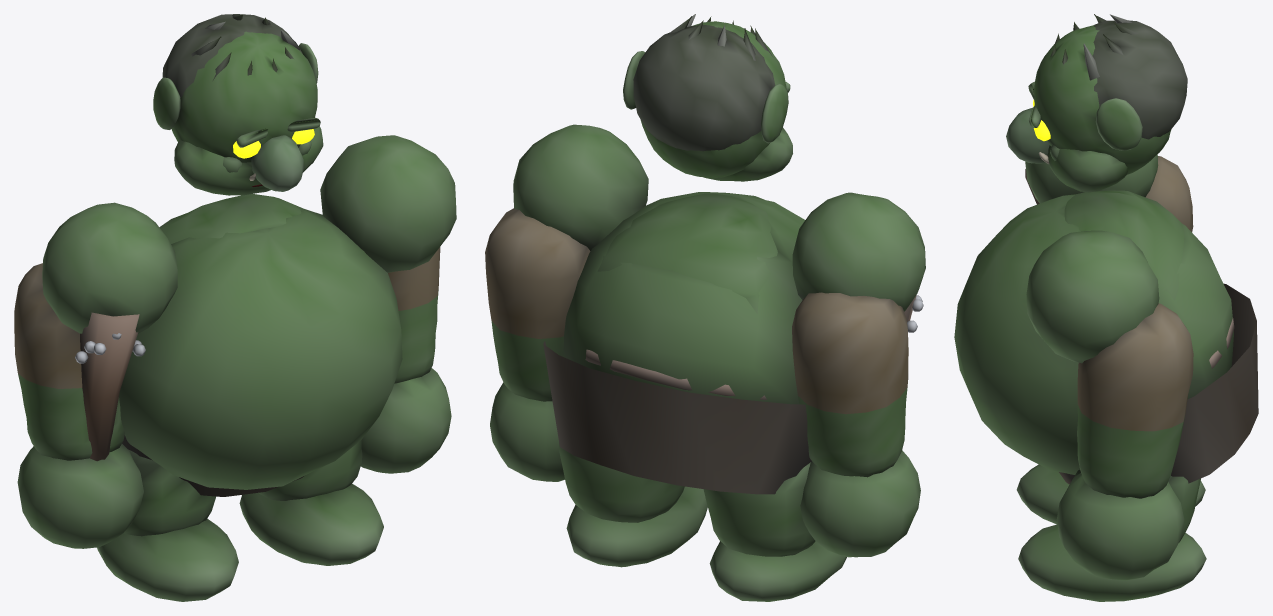
3 renders of one model, left to right at view 1: azimuth 30°, elevation 25°; view 2: azimuth 150°, elevation 25°; view 3: azimuth 270°, elevation 25°, orthographic. The views are drawn at different scales.
Parts seen in each view (by area): view 1: torso, head, armR, legR, armL, legL, weapon; view 2: torso, armR, head, armL, legR, legL; view 3: torso, armL, head, legL, legR, armR.
Boxes of the visible parts, box(x1,y1,x2,y2) form: torso: box(42, 135, 456, 496); head: box(153, 14, 323, 195); armR: box(14, 263, 143, 548); legR: box(97, 449, 238, 601); armL: box(361, 247, 451, 473); legL: box(239, 440, 383, 565); weapon: box(75, 312, 145, 461); torso: box(513, 124, 925, 494); armR: box(792, 292, 920, 557); head: box(623, 14, 792, 181); armL: box(485, 208, 590, 481); legR: box(703, 462, 846, 601); legL: box(559, 442, 707, 567); torso: box(954, 154, 1258, 484); armL: box(1056, 303, 1193, 580); head: box(1006, 14, 1187, 192); legL: box(1018, 469, 1206, 601); legR: box(1016, 464, 1205, 524); armR: box(1145, 156, 1193, 231).
Size of the model in its own units: 0.7105 by 0.9018 by 0.4617.
